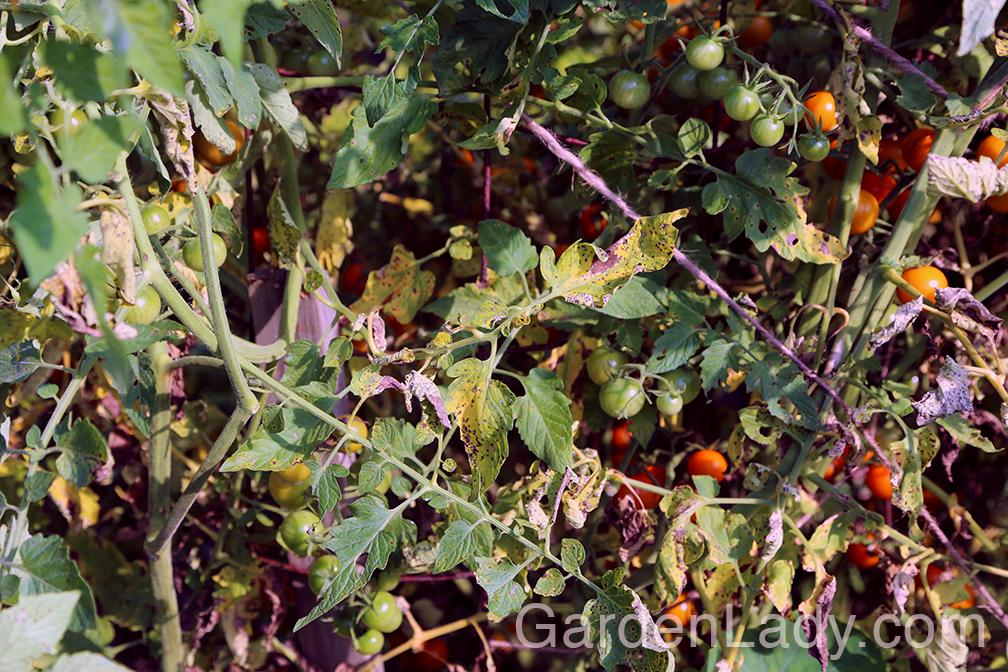Tomato leaf: (536, 207, 693, 311), (703, 153, 842, 264), (331, 92, 430, 191), (447, 359, 516, 489), (225, 415, 347, 474), (510, 370, 579, 474), (356, 251, 434, 320), (425, 283, 513, 326)
